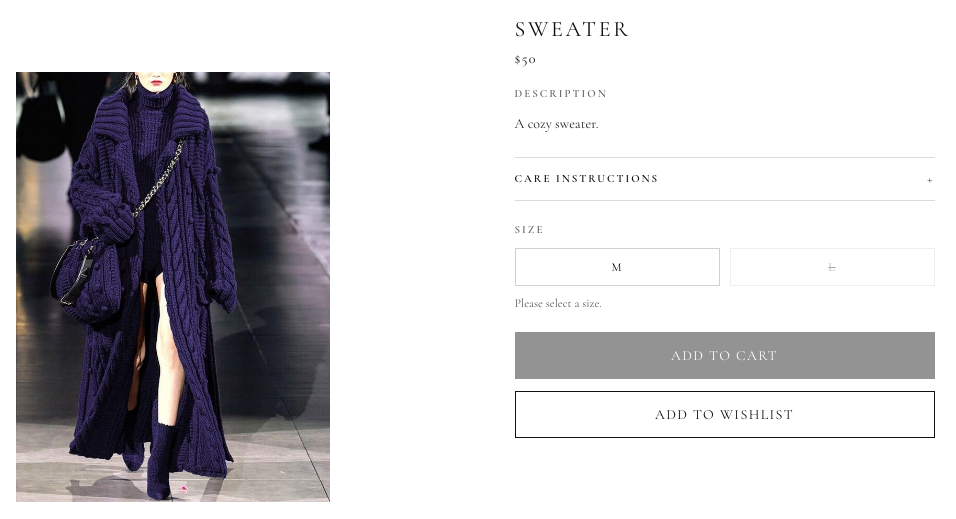
ProductDetails - product display › toggles care instructions visibility
Expected: the heading "Sweater" is shown, [514, 16, 631, 42]
Expected: the text "Hand wash only." is not shown
What coordinates should you click on to do the following:
click the text "Care Instructions"
I would click on:
 (587, 179)
Its box is [514, 172, 659, 185].
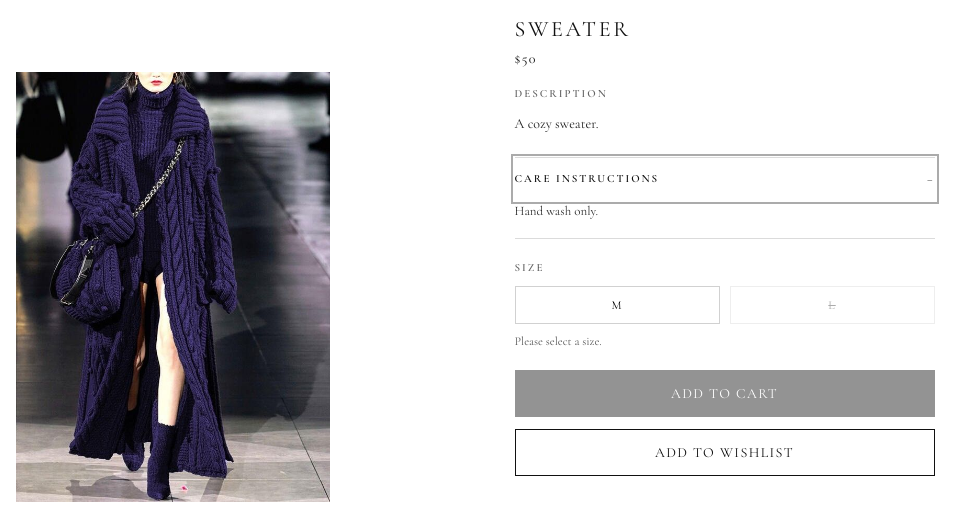
Expected: the text "Hand wash only." is shown, [514, 203, 598, 219]
